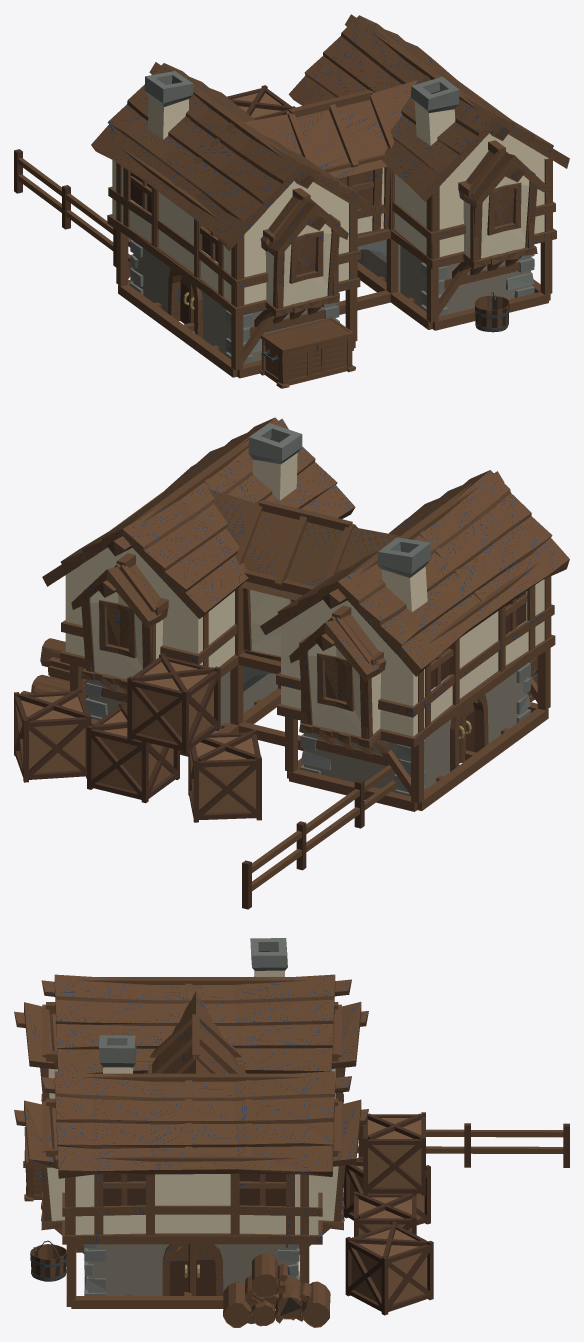
File: Warehouse_Construction_BLU.glb
3 views of the same model, one above another, from view 1: azimuth 30°, elevation 25°; view 2: azimuth 150°, elevation 25°; view 3: azimuth 270°, elevation 25° (orthographic). The views are drawn at different scales.
Visible parts, largest first — view 1: Stage_04_Roofed_Building, Stage_05_Complete_Building, Stage_03_RoofFrame_Building, Stage_02_FirstFloor_Building, Stage_01_Foundation_Building, Prop_SuppliesCabinet, Prop_RearFence, Prop_Crate_1, Prop_WaterBucket; view 2: Stage_04_Roofed_Building, Stage_05_Complete_Building, Stage_03_RoofFrame_Building, Prop_Crate_1, Prop_Crate_4, Prop_Crate_2, Prop_Crate_3, Stage_01_Foundation_Building, Stage_02_FirstFloor_Building, Prop_RearFence, Prop_StoredTimber; view 3: Stage_04_Roofed_Building, Stage_03_RoofFrame_Building, Stage_05_Complete_Building, Prop_Crate_4, Prop_StoredTimber, Prop_Crate_1, Prop_RearFence, Stage_02_FirstFloor_Building, Prop_Crate_3, Stage_01_Foundation_Building, Prop_Crate_2, Prop_WaterBucket (+1 smaller).
Part boxes in pixels (<box>): Stage_04_Roofed_Building: <box>91,15,569,258</box>; Stage_05_Complete_Building: <box>112,71,548,364</box>; Stage_03_RoofFrame_Building: <box>107,14,556,338</box>; Stage_02_FirstFloor_Building: <box>116,229,552,370</box>; Stage_01_Foundation_Building: <box>118,262,550,378</box>; Prop_SuppliesCabinet: <box>259,317,355,388</box>; Prop_RearFence: <box>14,149,132,267</box>; Prop_Crate_1: <box>227,85,295,119</box>; Prop_WaterBucket: <box>474,291,509,332</box>; Stage_04_Roofed_Building: <box>42,417,569,681</box>; Stage_05_Complete_Building: <box>65,423,544,796</box>; Stage_03_RoofFrame_Building: <box>60,418,555,771</box>; Prop_Crate_1: <box>127,653,220,754</box>; Prop_Crate_4: <box>14,688,91,782</box>; Prop_Crate_2: <box>188,729,261,822</box>; Prop_Crate_3: <box>87,702,179,803</box>; Stage_01_Foundation_Building: <box>91,688,548,811</box>; Stage_02_FirstFloor_Building: <box>70,648,550,803</box>; Prop_RearFence: <box>242,765,396,909</box>; Prop_StoredTimber: <box>21,638,88,700</box>; Stage_04_Roofed_Building: <box>24,974,361,1178</box>; Stage_03_RoofFrame_Building: <box>14,977,368,1295</box>; Stage_05_Complete_Building: <box>47,938,338,1295</box>; Prop_Crate_4: <box>345,1221,433,1315</box>; Prop_StoredTimber: <box>223,1253,330,1327</box>; Prop_Crate_1: <box>363,1112,425,1195</box>; Prop_RearFence: <box>357,1123,569,1167</box>; Stage_02_FirstFloor_Building: <box>67,1235,308,1299</box>; Prop_Crate_3: <box>354,1191,416,1236</box>; Stage_01_Foundation_Building: <box>66,1245,309,1308</box>; Prop_Crate_2: <box>343,1156,430,1225</box>; Prop_WaterBucket: <box>30,1240,66,1281</box>.
Bounding box in the file's own units: 9.91 × 5.59 × 12.64.
1 material, 1 textured.
